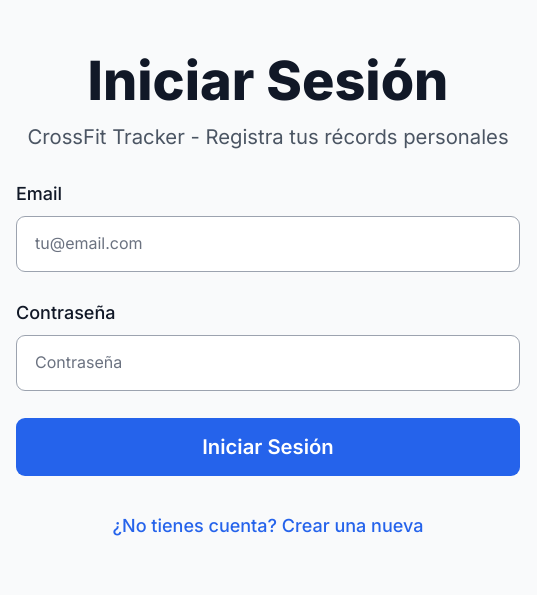
AuthComponent Integration Tests › Login Flow › should show error message for invalid credentials
The width and height of the screenshot is (537, 595).
In the field labelled "Email": (268,244) [16,216,520,272], type "wrong@example.com"
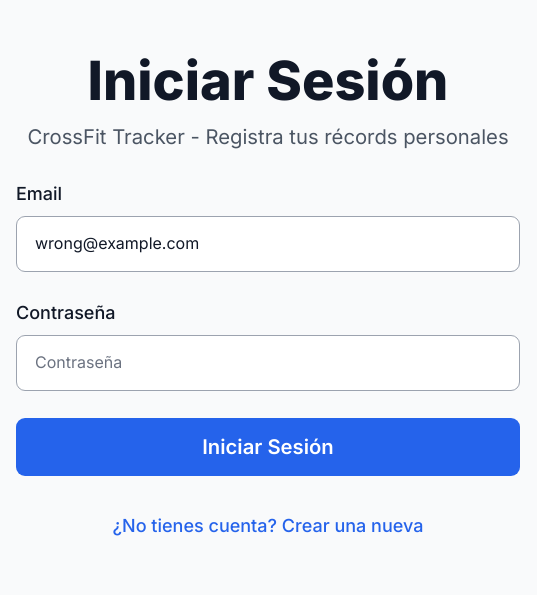
In the password field labelled "Contraseña": (268,363) [16,335,520,391], type "wrongpassword"
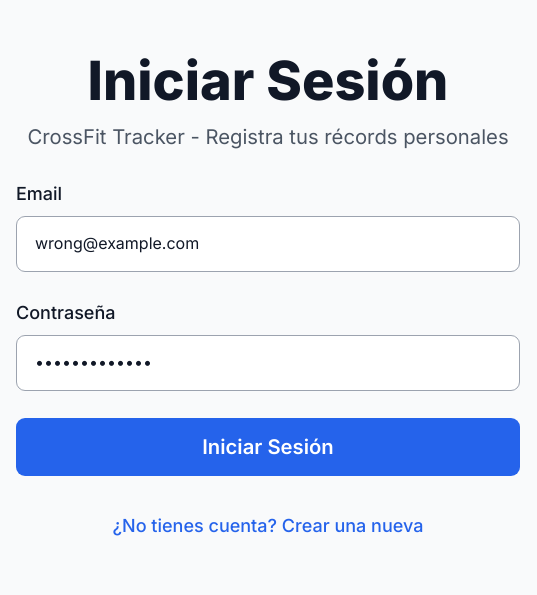
Click the button "Iniciar Sesión": (268,447) [16,418,520,476]
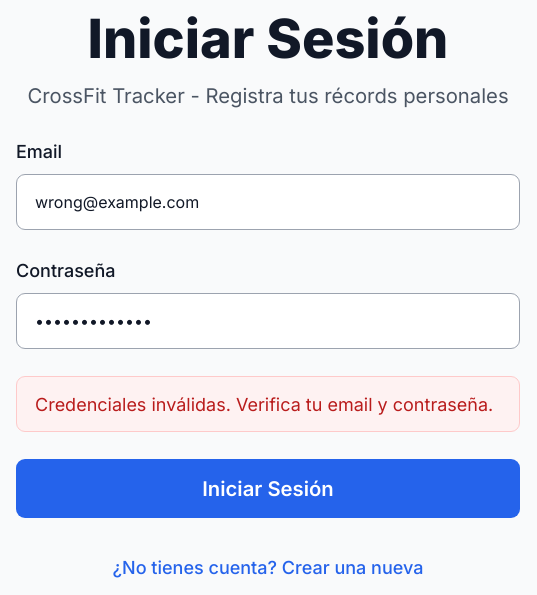
Now the text "Credenciales inválidas. Verifica tu email y contraseña." is shown, box [16,376,520,432]
